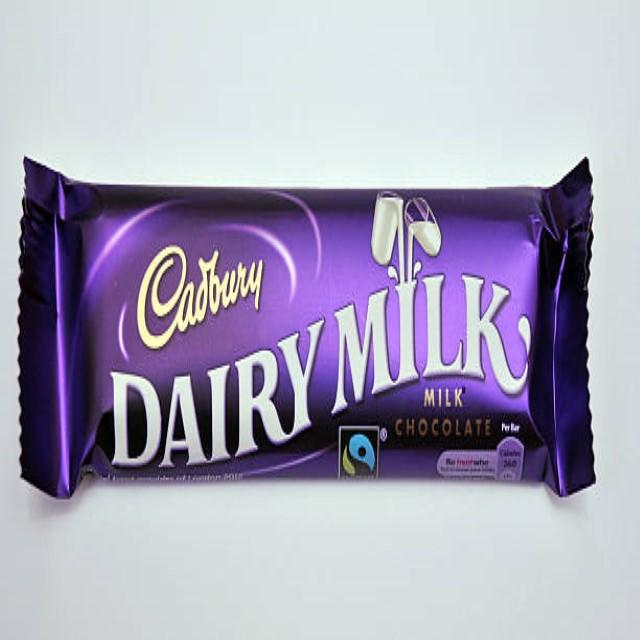cadbury_chocolate: (35, 168, 593, 498)
